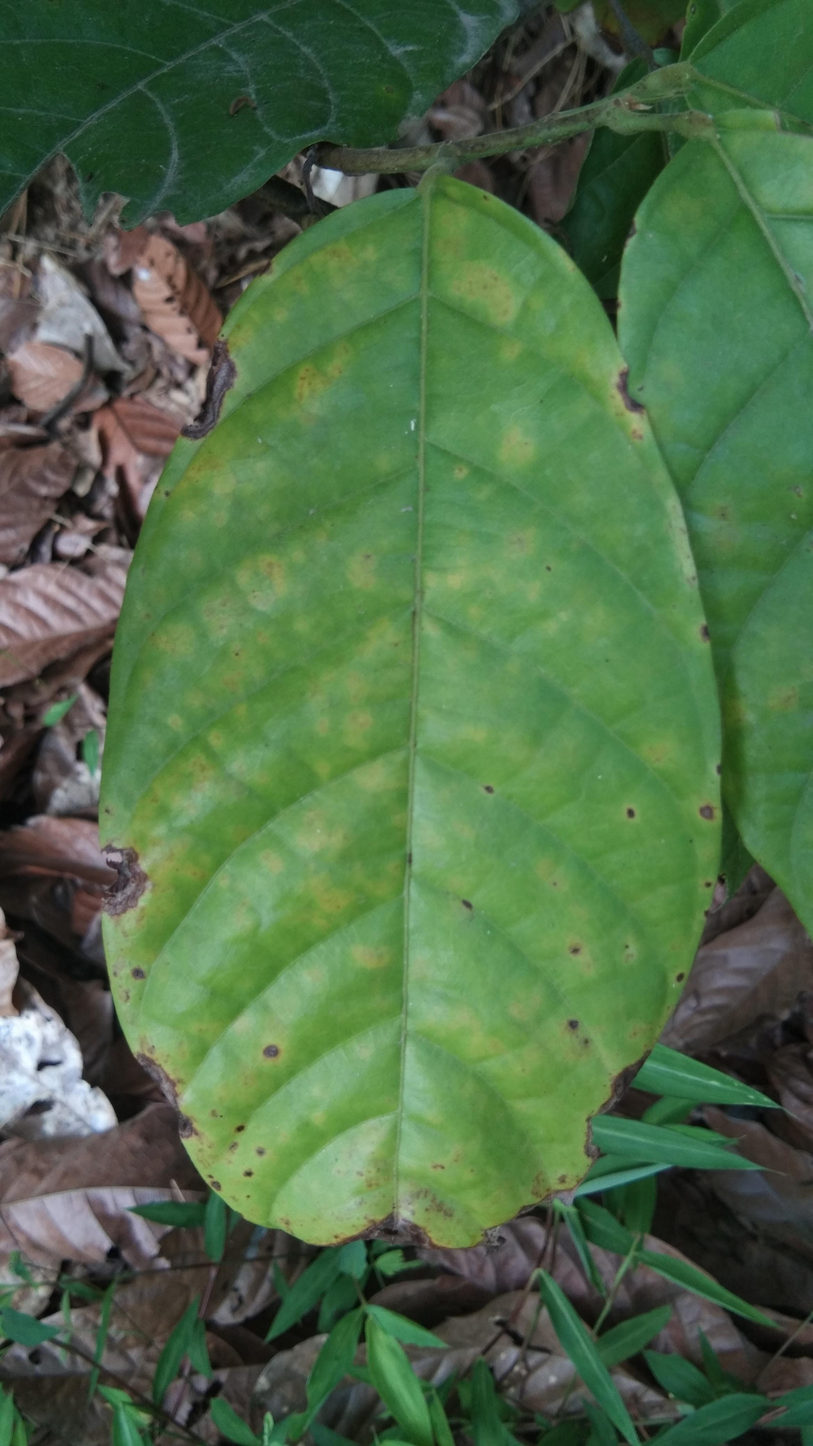deficiencia_potasio: (87, 154, 754, 1256)
